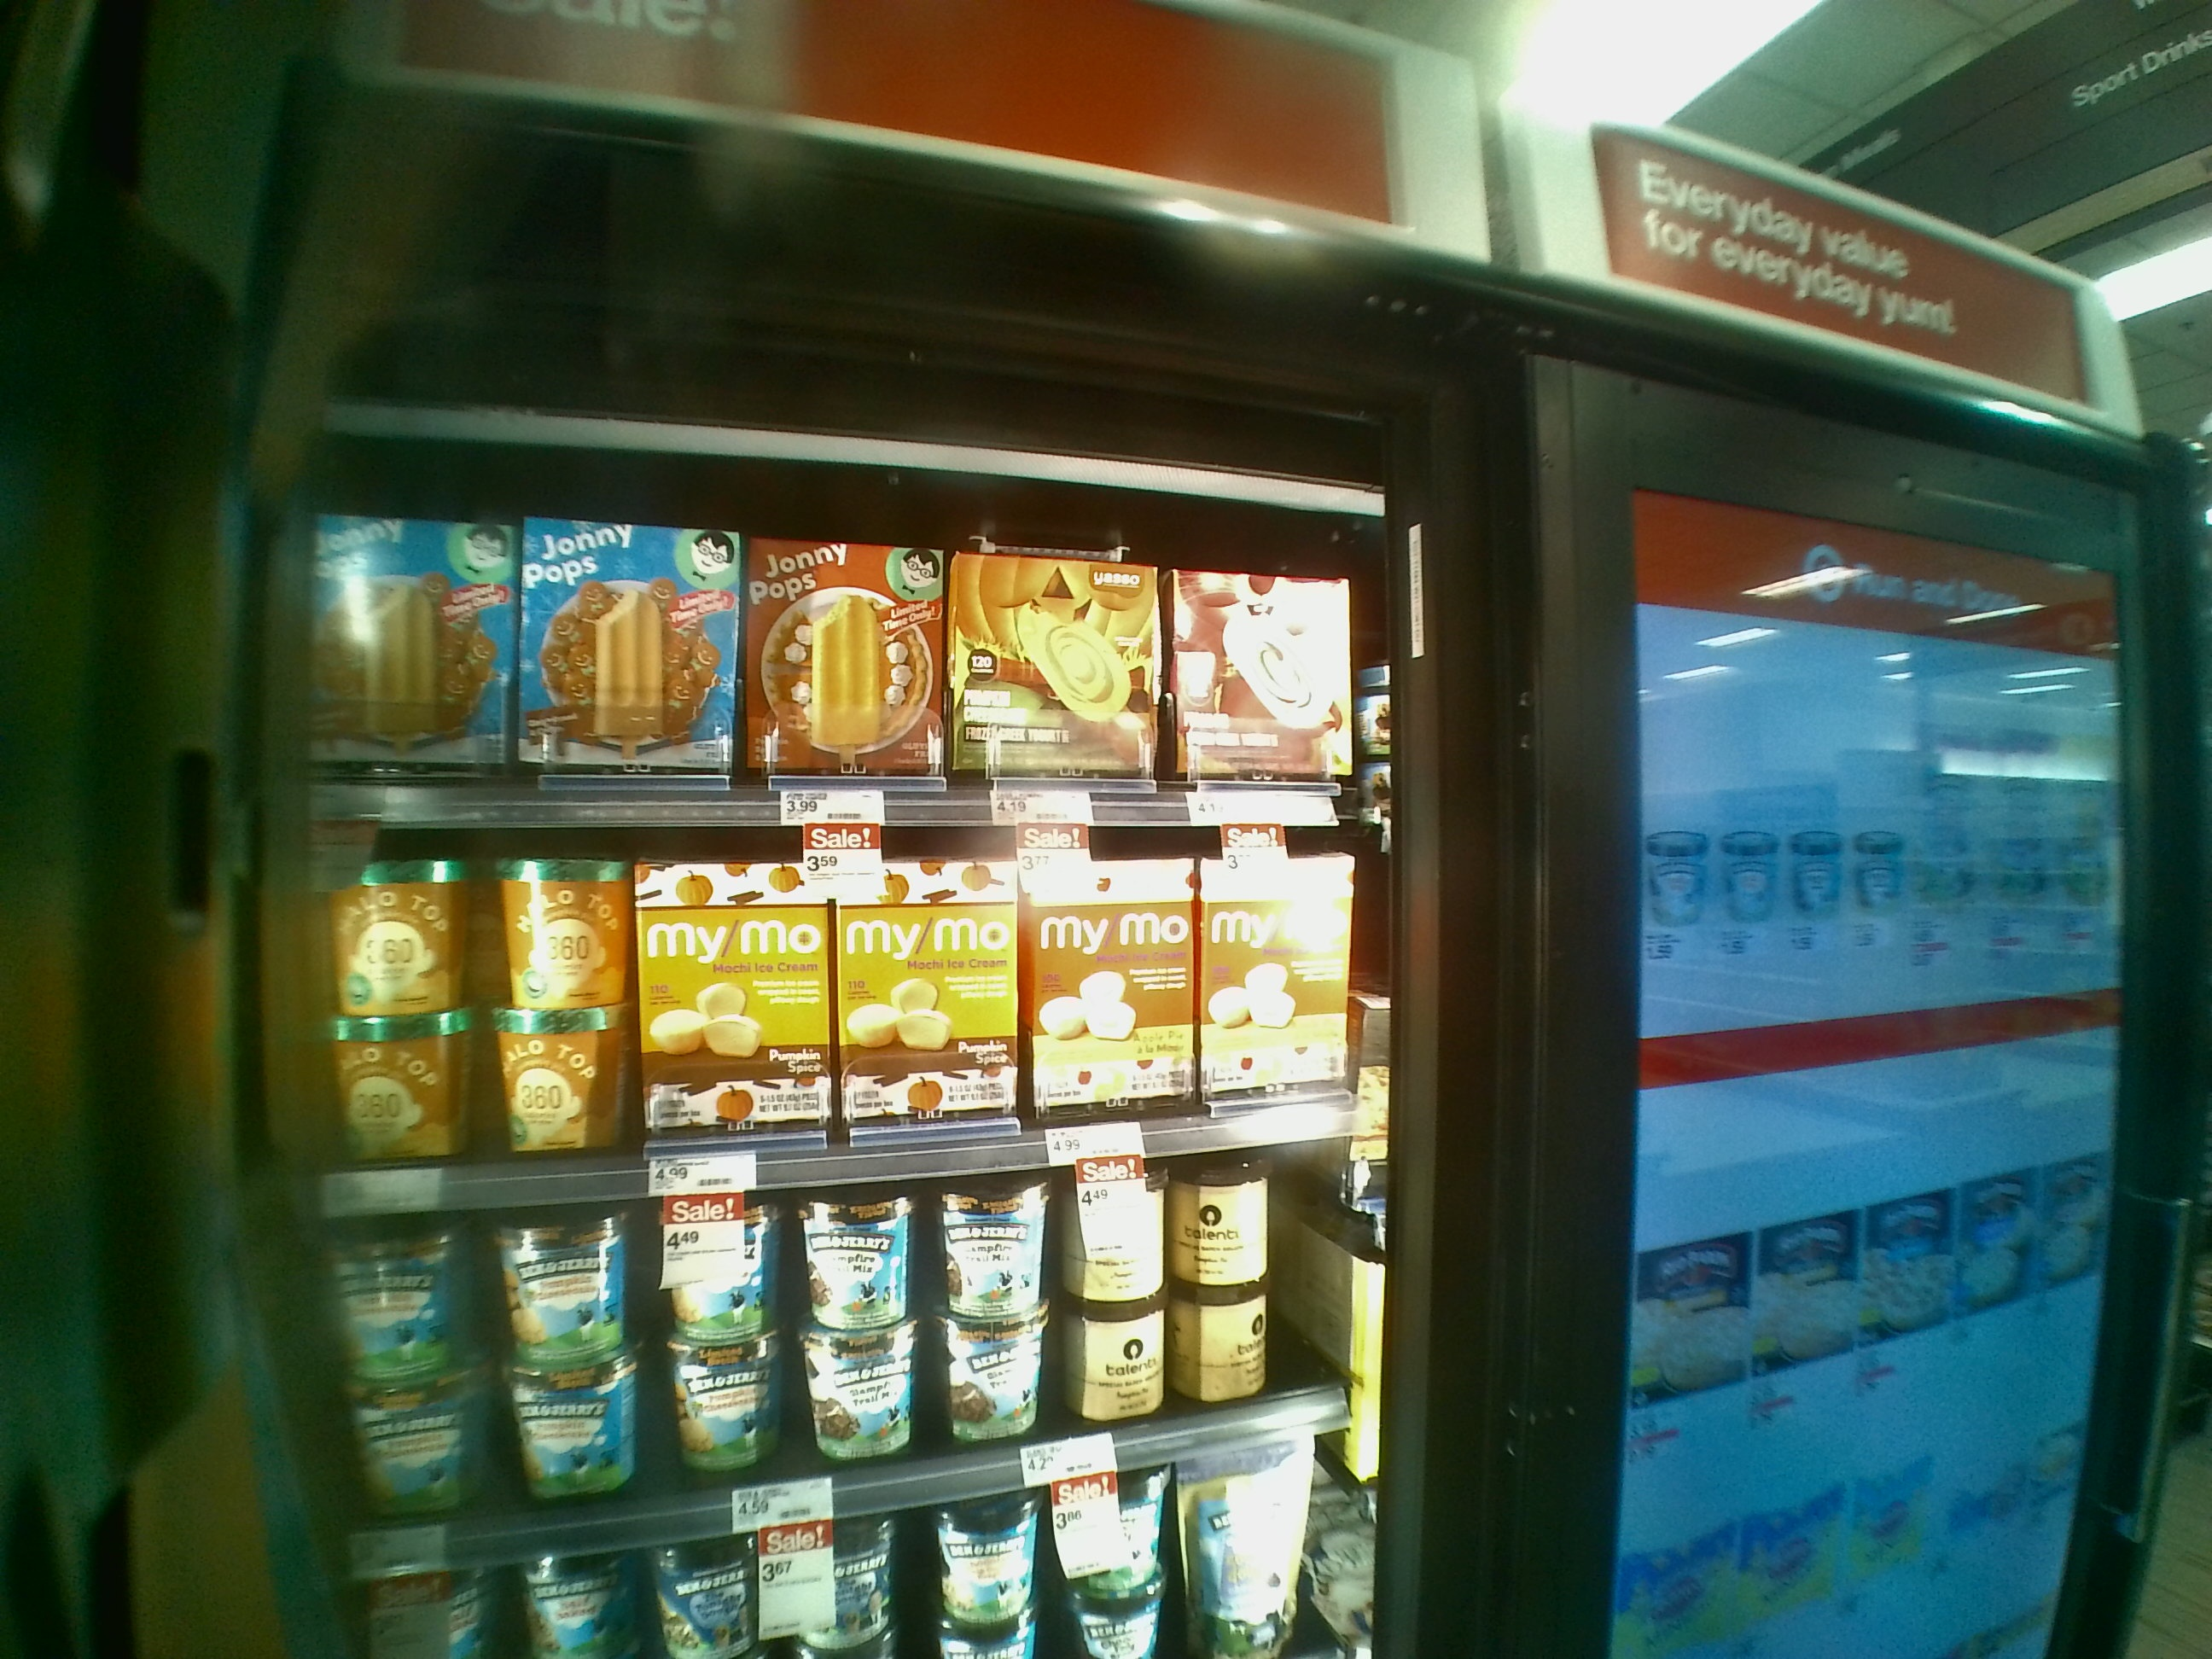shelf: (289, 455, 1407, 835), (273, 817, 1393, 1161), (279, 1176, 1383, 1464)
